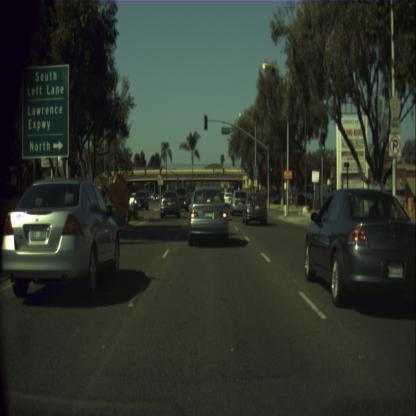Green: (320, 133, 325, 151), (270, 160, 273, 172)
off: (203, 114, 207, 129)
